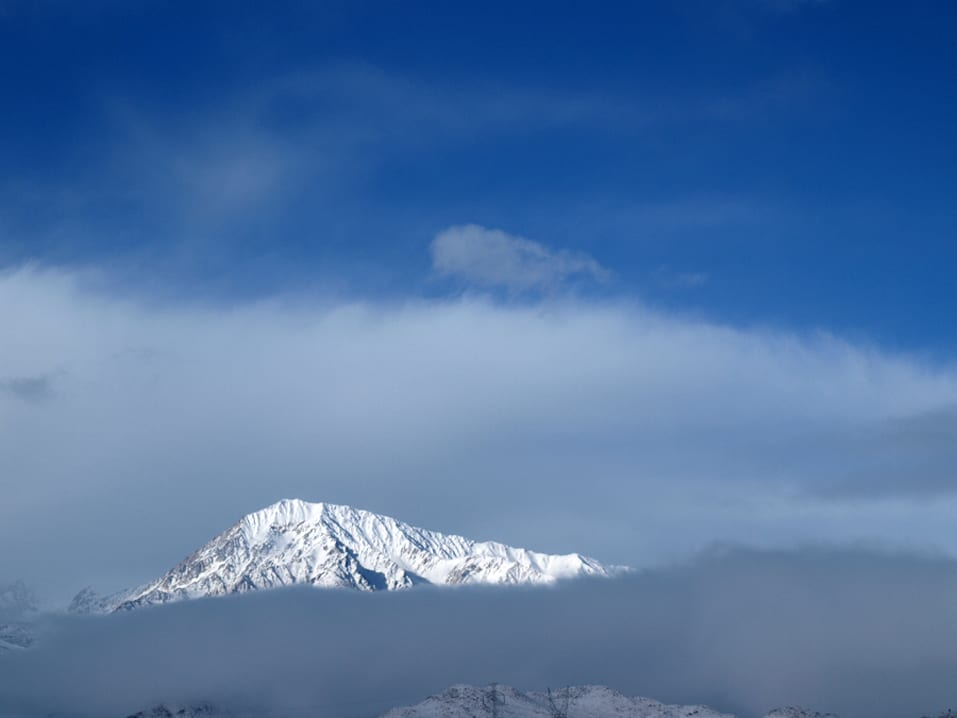Stratus: (9, 234, 957, 523), (15, 542, 955, 716)
